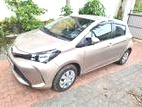car: (7, 15, 134, 92)
